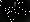person: (9, 4, 16, 16)
